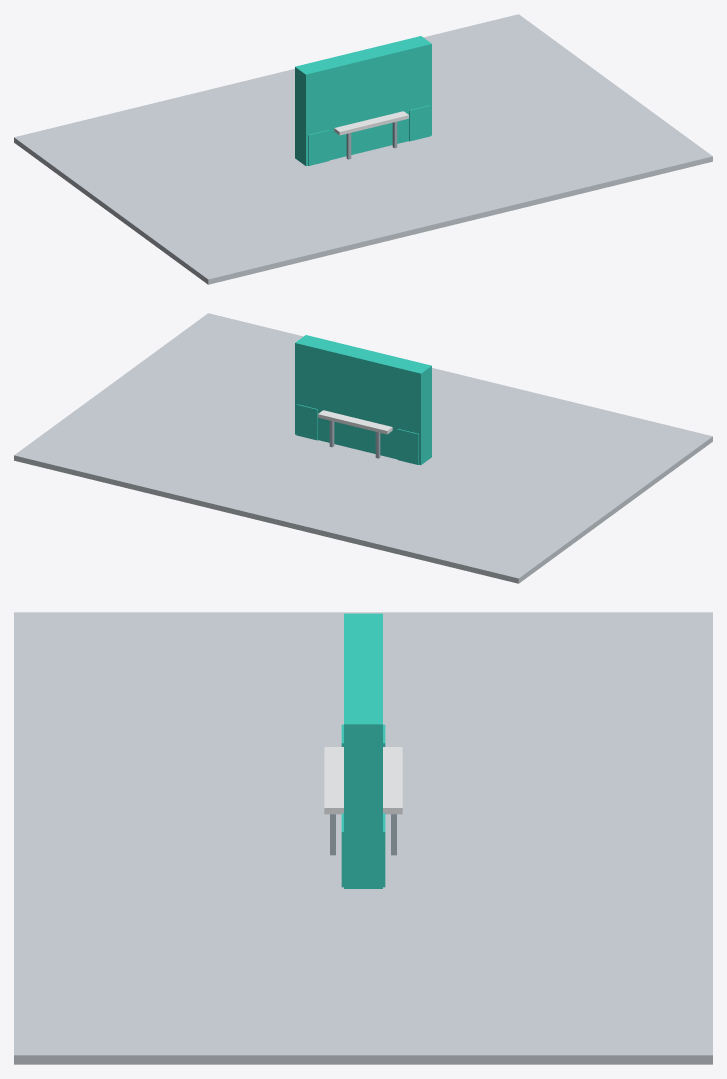
3 renders of one model, top to bottom at view 1: azimuth 30°, elevation 25°; view 2: azimuth 150°, elevation 25°; view 3: azimuth 270°, elevation 25°, orthographic. The views are drawn at different scales.
Visible parts, largest first — view 1: Exhibition Booth Concept; view 2: Exhibition Booth Concept; view 3: Exhibition Booth Concept.
Boxes of the visible parts, <box> form: Exhibition Booth Concept: <box>14,14,712,284</box>; Exhibition Booth Concept: <box>14,313,712,583</box>; Exhibition Booth Concept: <box>14,612,712,1064</box>.
Bounding box in the file's own units: 12 × 2.2 × 8.
